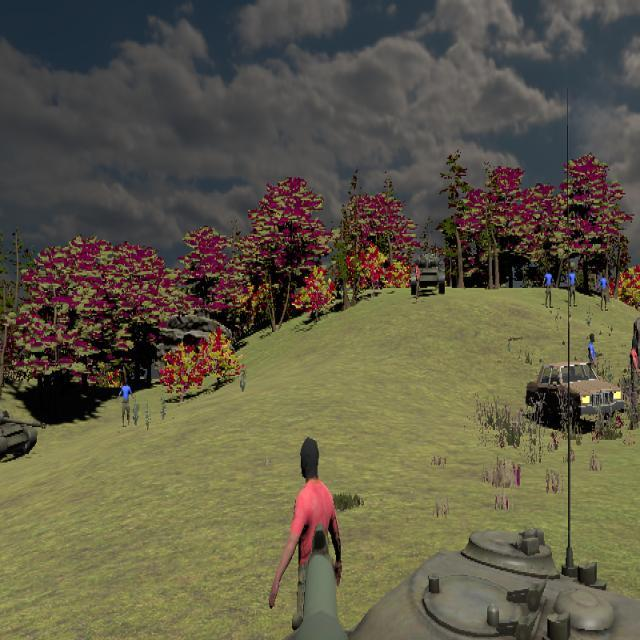Human: (269, 434, 344, 640), (117, 376, 135, 428), (630, 340, 640, 405), (587, 334, 598, 393), (542, 267, 556, 308)
Tank: (262, 527, 633, 640), (0, 405, 47, 470), (411, 252, 446, 296)
car: (525, 361, 624, 428)
